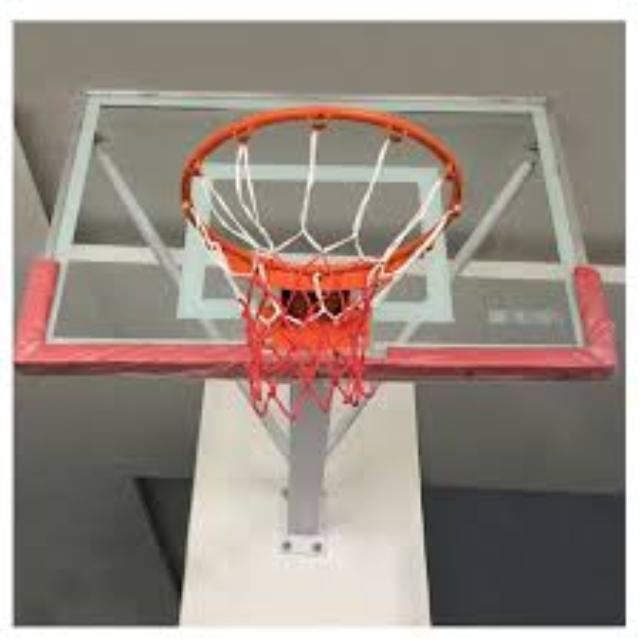rim: (181, 105, 463, 409)
